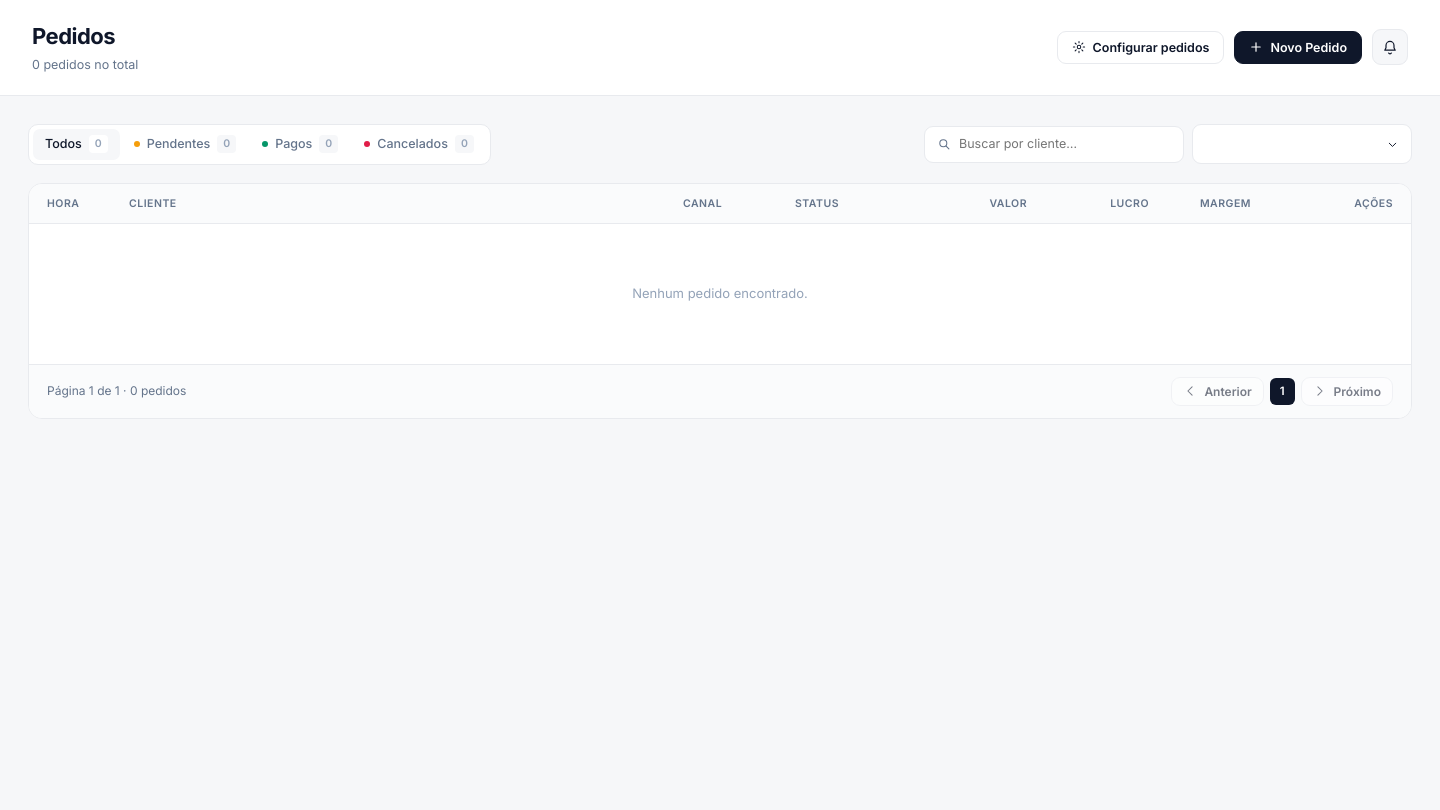
OrdersView › should list the product ficha técnica as checked insumos when a product is selected
The image size is (1440, 810).
Click the button with test id "new-order-button". click: [1298, 47]
box: 1234,31 -> 1362,64
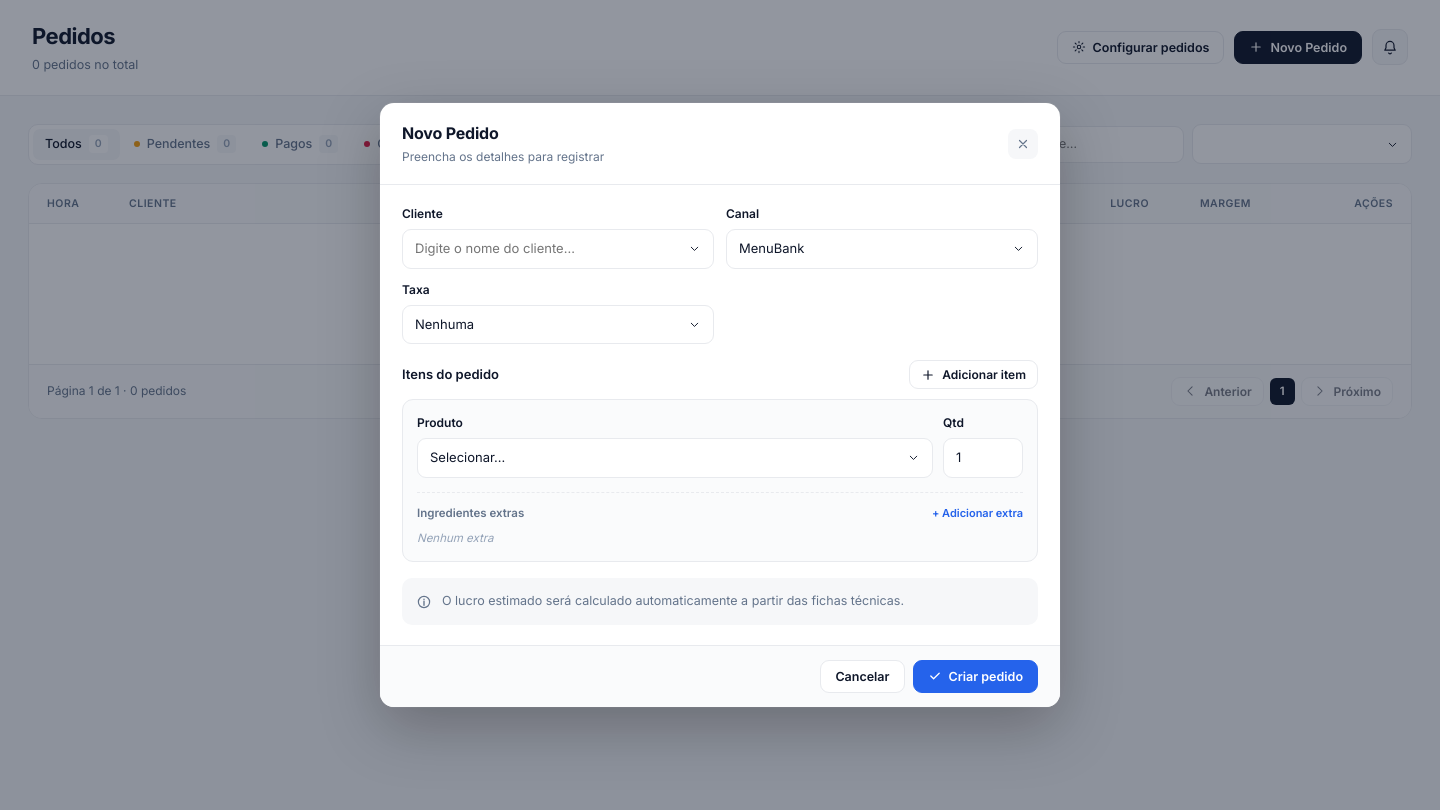
Select "Açaí 330ml — R$ 20,00" in the dropdown with test id "order-item-0-product-select". click: [664, 458]
box: 430,444 -> 899,472
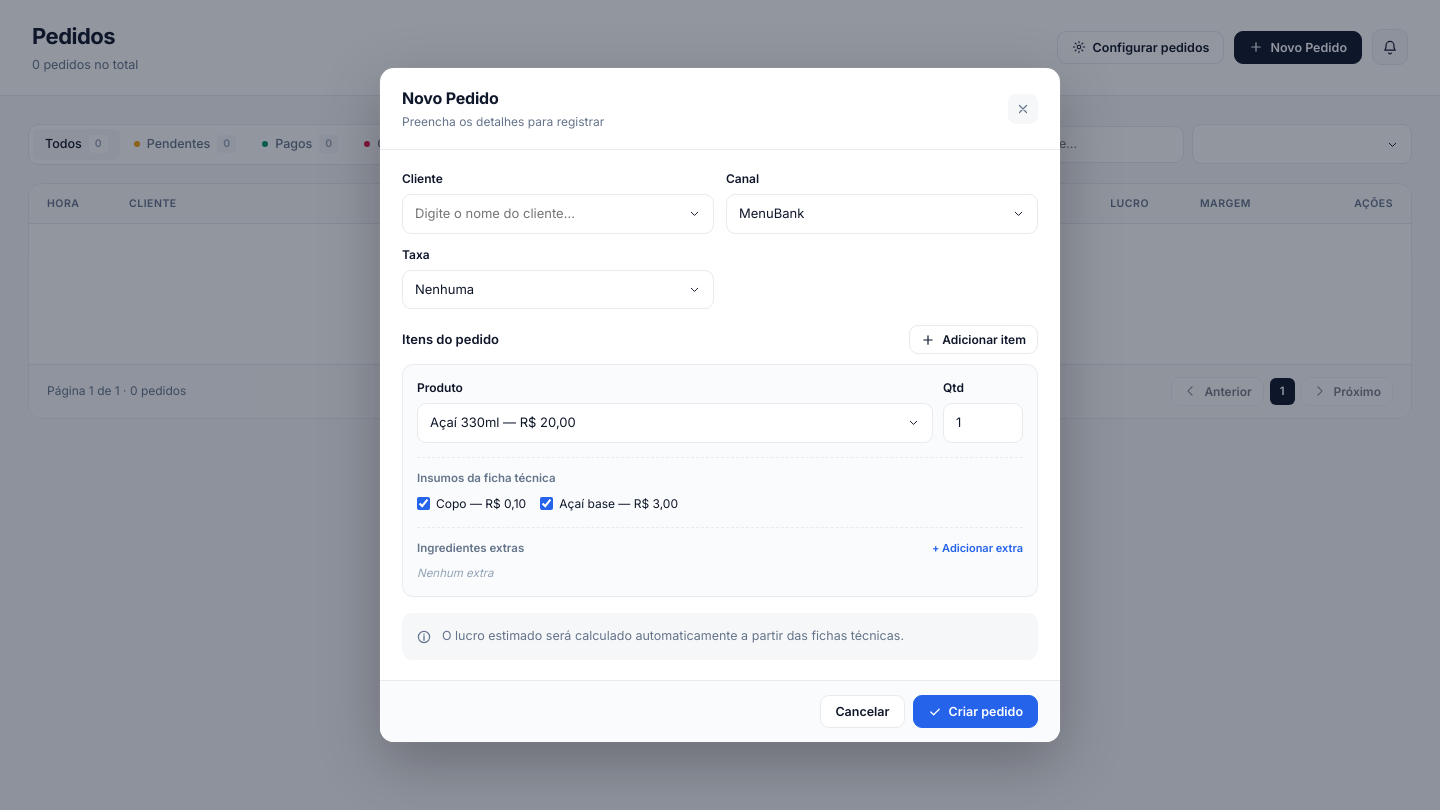
Result: the checkbox with test id "order-item-0-insumo-inc1-checkbox" is checked at 417,497 -> 430,510
Result: the checkbox with test id "order-item-0-insumo-inc2-checkbox" is checked at 540,497 -> 553,510
Result: the text "Copo" is shown at 436,496 -> 526,511
